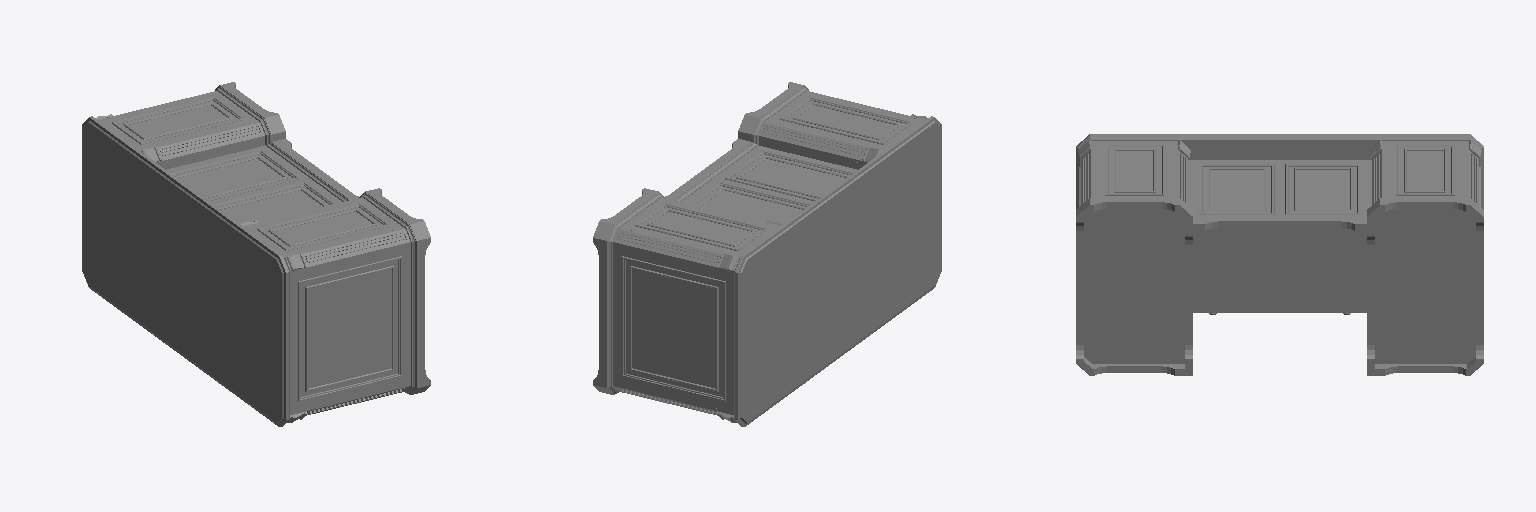
File: desk.obj
3 renders of one model, left to right at view 1: azimuth 30°, elevation 25°; view 2: azimuth 150°, elevation 25°; view 3: azimuth 270°, elevation 25°, orthographic.
Visible parts, largest first — view 1: 10240_Office_Desk_v3_max2011; view 2: 10240_Office_Desk_v3_max2011; view 3: 10240_Office_Desk_v3_max2011.
Part boxes in pixels (x1,y1,x2,y2): 10240_Office_Desk_v3_max2011: (82,82,430,426); 10240_Office_Desk_v3_max2011: (593,82,941,426); 10240_Office_Desk_v3_max2011: (1076,134,1483,375).
Bounding box in the file's own units: 1.08 × 1.22 × 2.59.